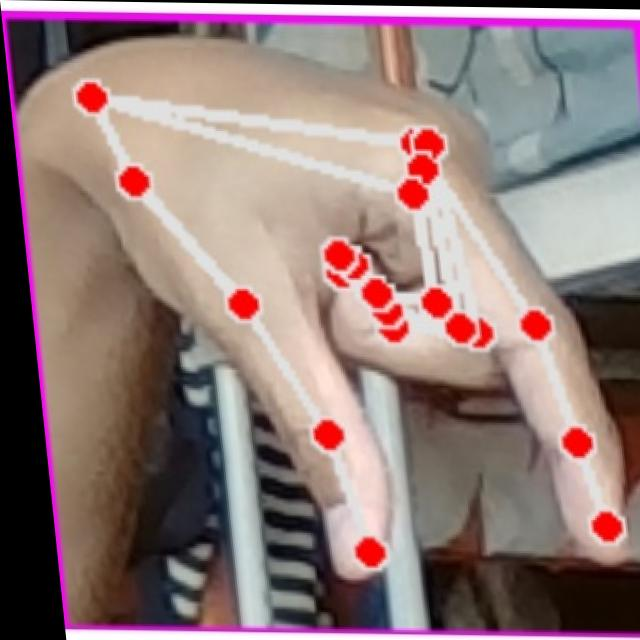Q: (45, 34, 627, 590)
